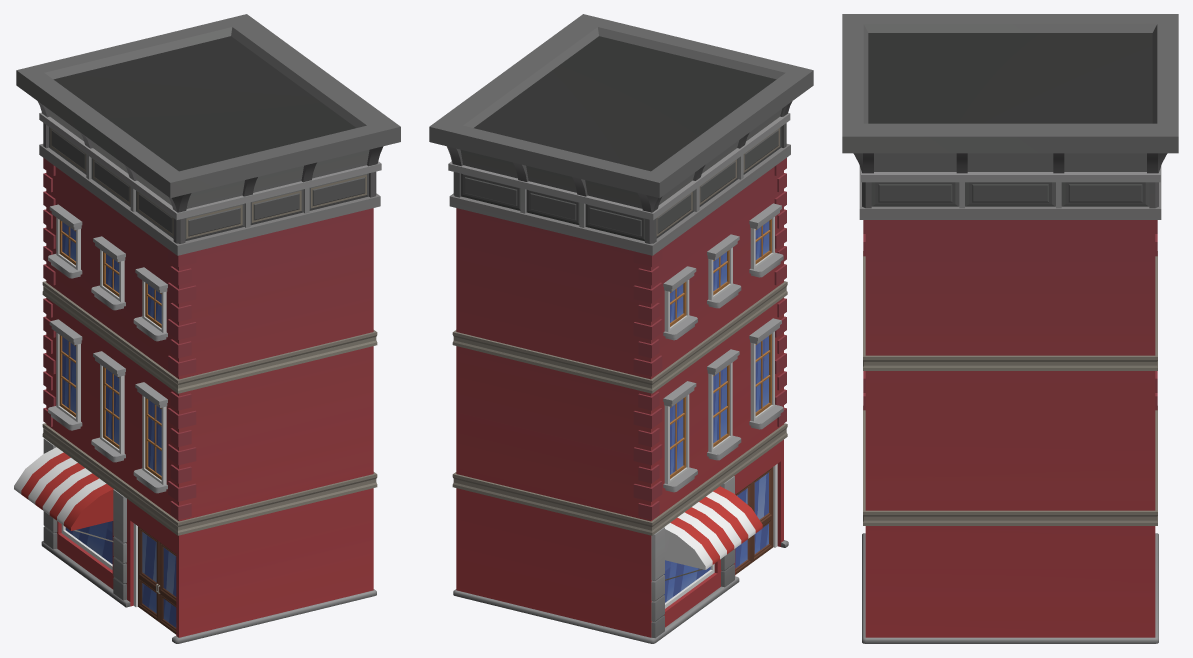
Rendered from Building_8_2_E.glb.
The picture shows the model from 3 angles, left to right: view 1: azimuth 30°, elevation 25°; view 2: azimuth 150°, elevation 25°; view 3: azimuth 270°, elevation 25°; orthographic projection. The views are drawn at different scales.
Visible parts, largest first — view 1: Building 8_2_E; view 2: Building 8_2_E; view 3: Building 8_2_E.
Boxes of the visible parts, x1,y1,x2,y2 form: Building 8_2_E: (14,14,400,643); Building 8_2_E: (429,14,813,643); Building 8_2_E: (842,14,1178,643).
Size of the model in its own units: 7.2 by 12.76 by 7.55.
3 materials, 3 textured.
